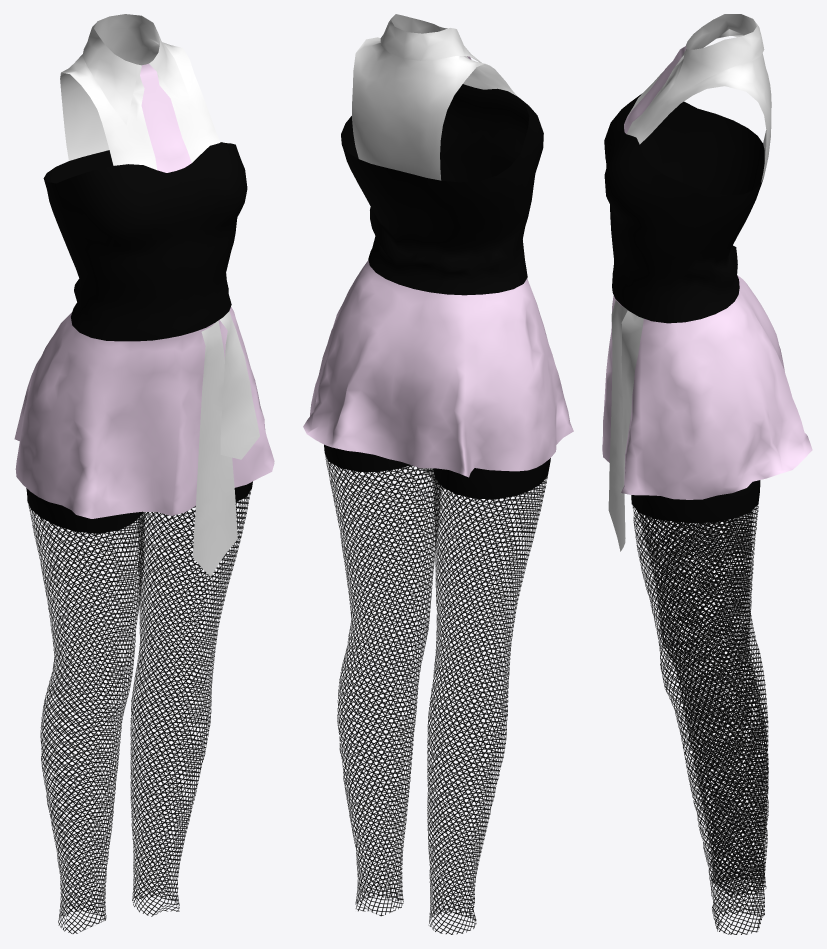
Rendered from goth_happy2.glb.
3 views of the same model, side by side, from view 1: azimuth 30°, elevation 25°; view 2: azimuth 150°, elevation 25°; view 3: azimuth 270°, elevation 25° (orthographic).
Parts seen in each view (by area): view 1: Untitled (9); view 2: Untitled (9); view 3: Untitled (9).
Boxes of the visible parts, left/top/right/bottom form: Untitled (9): left=14, top=14, right=274, bottom=933; Untitled (9): left=303, top=14, right=573, bottom=934; Untitled (9): left=602, top=14, right=812, bottom=934.
Size of the model in its own units: 0.3125 by 1.22 by 0.2637.
9 materials, 1 textured.
